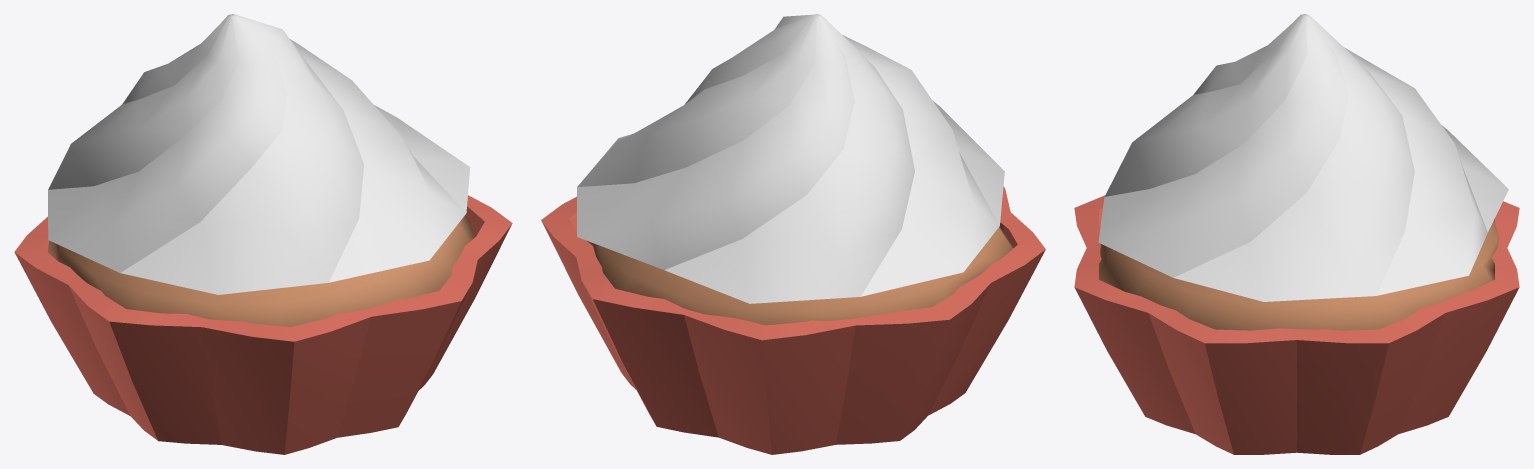
The model's file is SM_Muffin_Pink.fbx.
The picture shows the model from 3 angles, left to right: view 1: azimuth 30°, elevation 25°; view 2: azimuth 150°, elevation 25°; view 3: azimuth 270°, elevation 25°; orthographic projection. The views are drawn at different scales.
Parts seen in each view (by area): view 1: Cylinder.007, Cylinder.003, Sphere; view 2: Cylinder.007, Cylinder.003, Sphere; view 3: Cylinder.007, Cylinder.003, Sphere.
Part boxes in pixels (left/top/right/bottom): Cylinder.007: left=48, top=14, right=470, bottom=294; Cylinder.003: left=14, top=195, right=512, bottom=454; Sphere: left=48, top=215, right=474, bottom=326; Cylinder.007: left=577, top=14, right=1004, bottom=303; Cylinder.003: left=541, top=186, right=1045, bottom=454; Sphere: left=586, top=226, right=1013, bottom=325; Cylinder.007: left=1098, top=14, right=1508, bottom=301; Cylinder.003: left=1074, top=195, right=1519, bottom=454; Sphere: left=1099, top=220, right=1499, bottom=330.
Bounding box in the file's own units: 21.12 × 18.57 × 20.76.
